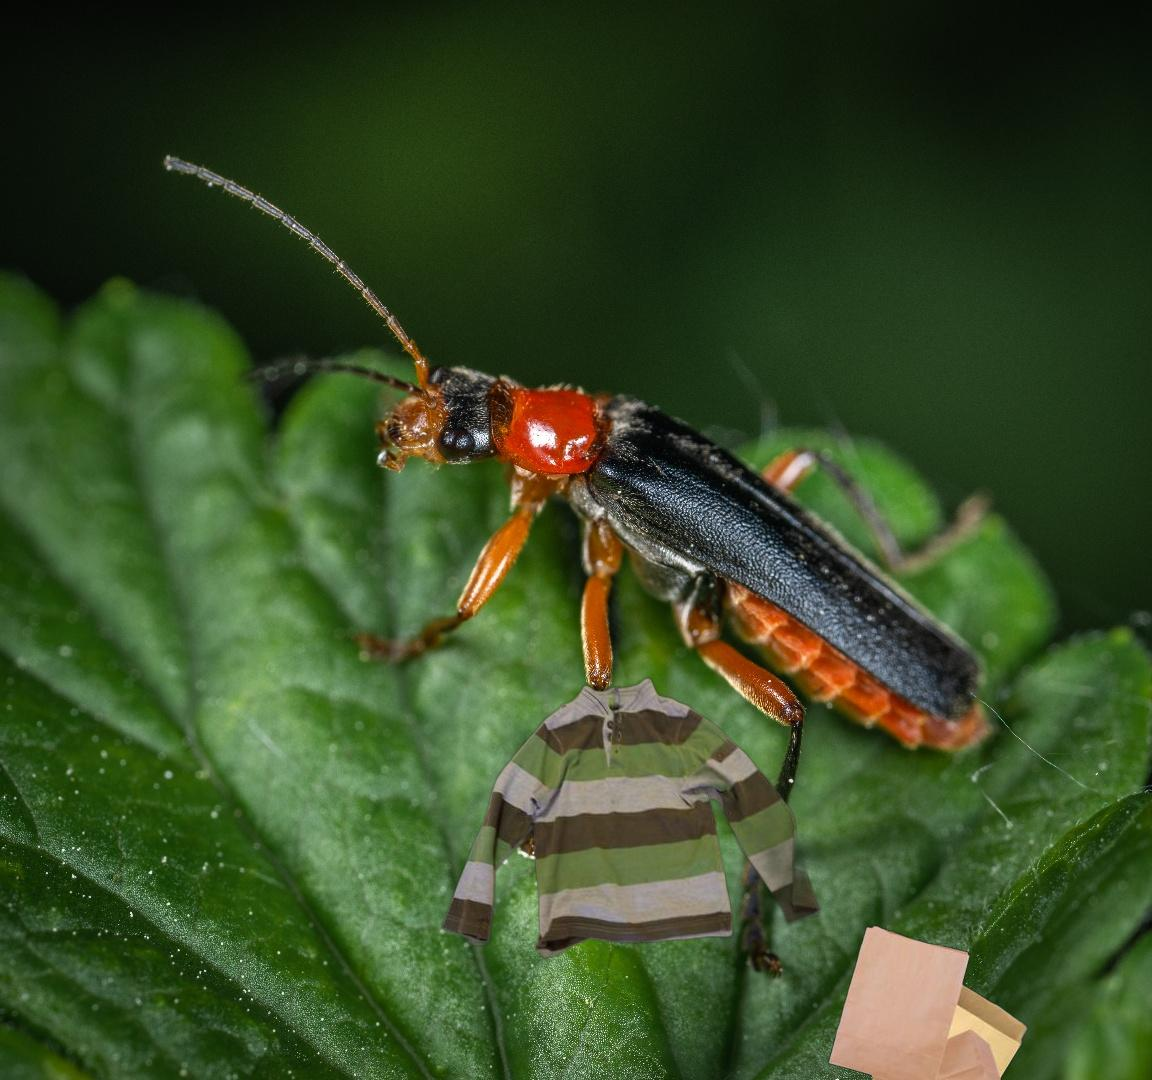clothes: (438, 675, 825, 962)
paper-bag: (825, 922, 1032, 1080)
